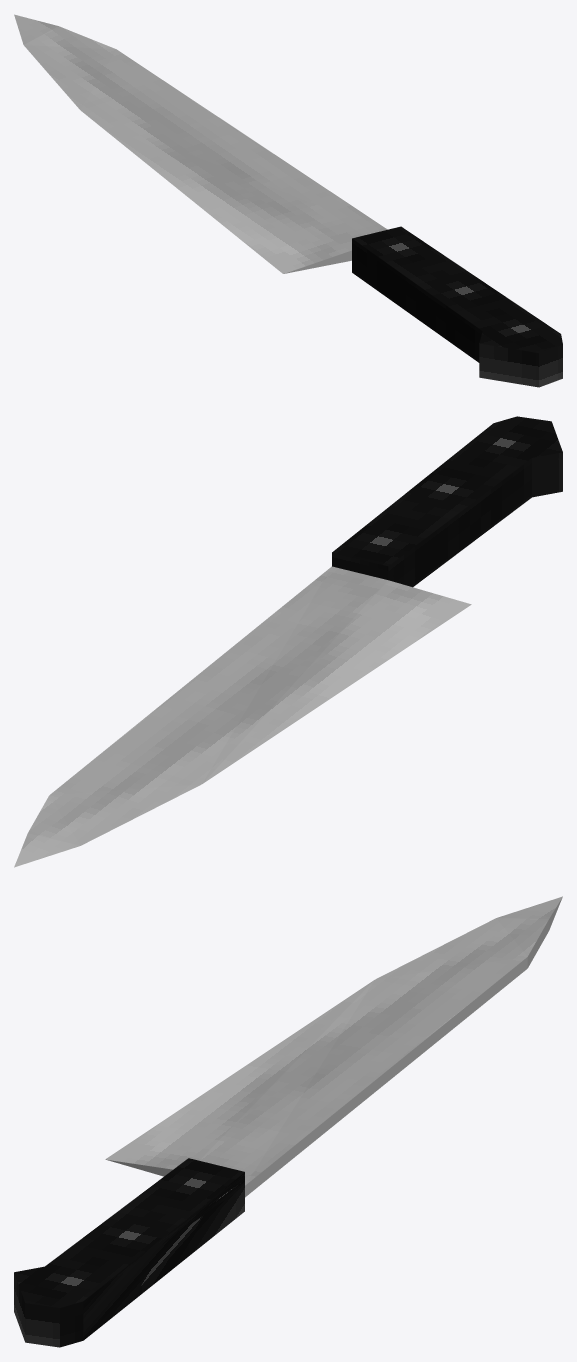
The model's file is knife.fbx.
3 views of the same model, one above another, from view 1: azimuth 30°, elevation 25°; view 2: azimuth 150°, elevation 25°; view 3: azimuth 330°, elevation 25° (orthographic). The views are drawn at different scales.
Parts seen in each view (by area): view 1: Knife; view 2: Knife; view 3: Knife.
Boxes of the visible parts, left/top/right/bottom form: Knife: left=14, top=14, right=562, bottom=387; Knife: left=14, top=416, right=562, bottom=867; Knife: left=14, top=896, right=562, bottom=1347.
Size of the model in its own units: 79.2 by 20 by 525.
